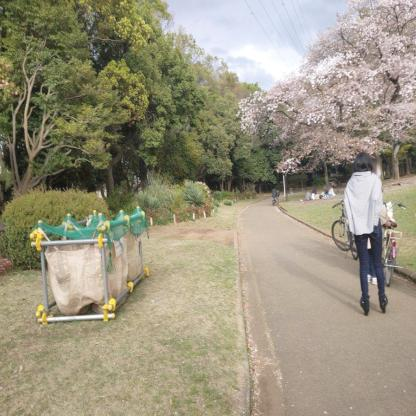Someiyoshino: (240, 0, 416, 195)
